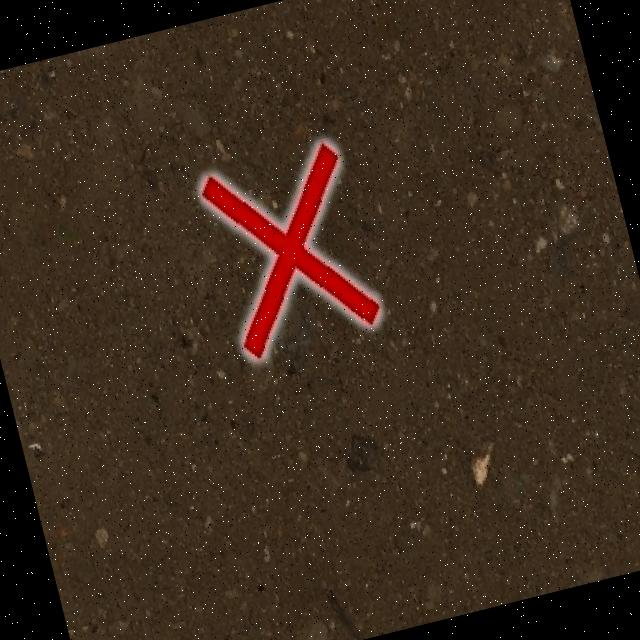x_marker: (196, 139, 382, 360)
